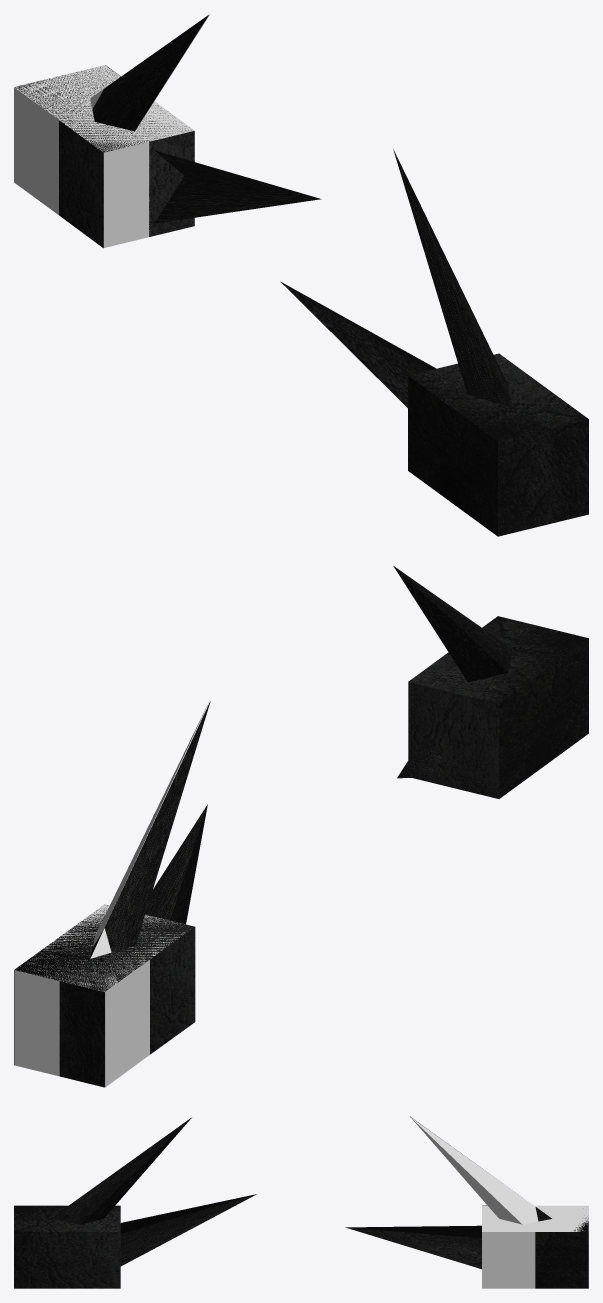
Rendered from cross_painted.glb.
3 views of the same model, one above another, from view 1: azimuth 30°, elevation 25°; view 2: azimuth 150°, elevation 25°; view 3: azimuth 270°, elevation 25° (orthographic). The views are drawn at different scales.
Visible parts, largest first — view 1: Cube.001, Cube.002, Cube; view 2: Cube.001, Cube.002, Cube; view 3: Cube.001, Cube, Cube.002.
Boxes of the visible parts, x1,y1,x2,y2 form: Cube.001: [280, 149, 588, 536]; Cube.002: [15, 15, 321, 247]; Cube: [14, 14, 209, 247]; Cube.001: [393, 566, 588, 798]; Cube.002: [14, 701, 210, 1087]; Cube: [14, 700, 209, 1087]; Cube.001: [14, 1117, 256, 1288]; Cube: [410, 1117, 588, 1288]; Cube.002: [345, 1116, 588, 1288].
Size of the model in its own units: 2.54 by 5.61 by 18.43.
Materials: 1 (1 with a texture image).
